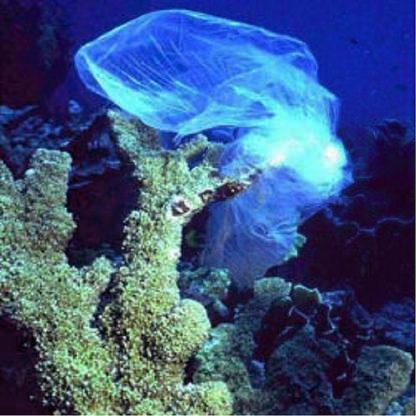pbag: (73, 9, 351, 292)
